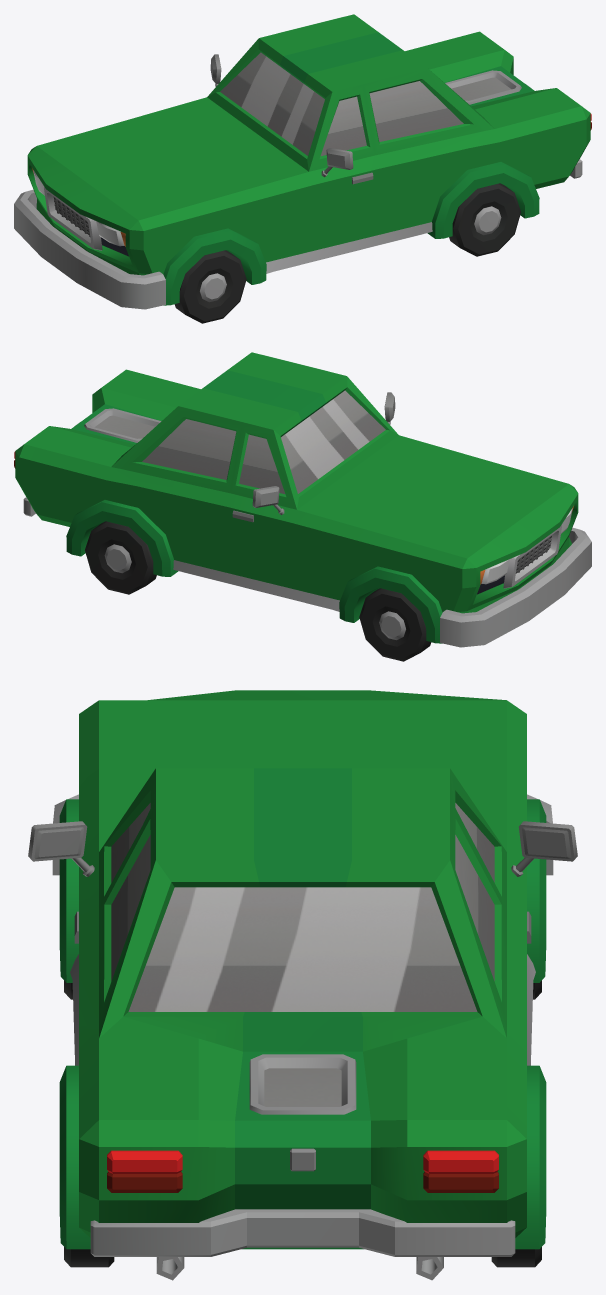
The model's file is Car_18_H.gltf.
3 views of the same model, one above another, from view 1: azimuth 30°, elevation 25°; view 2: azimuth 150°, elevation 25°; view 3: azimuth 270°, elevation 25° (orthographic). The views are drawn at different scales.
Parts seen in each view (by area): view 1: Car_18_H, RL, FL; view 2: Car_18_H, RR, FR; view 3: Car_18_H.
Part boxes in pixels (x1,y1,x2,y2): Car_18_H: (14,14,591,309); RL: (449,183,520,256); FL: (174,250,246,323); Car_18_H: (14,352,591,647); RR: (85,521,156,594); FR: (359,588,431,661); Car_18_H: (28,690,577,1280).
Bounding box in the file's own units: 3.78 × 1.34 × 1.85.
3 materials, 3 textured.
